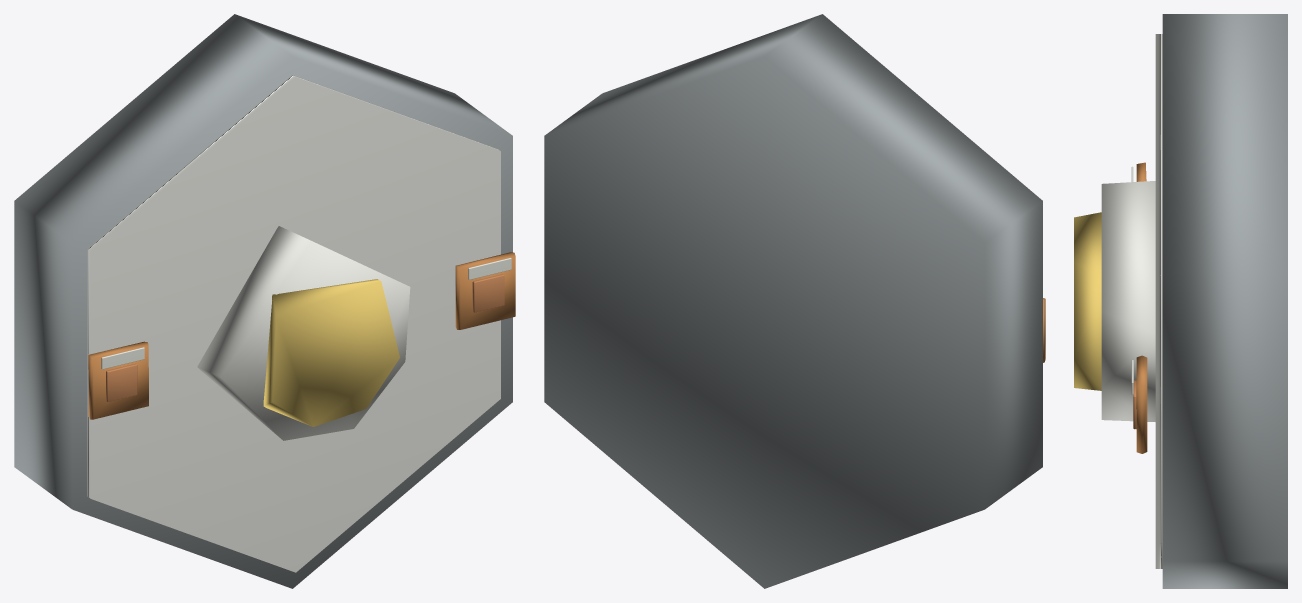
Rendered from led_series-module.low.glb.
3 views of the same model, side by side, from view 1: azimuth 30°, elevation 25°; view 2: azimuth 150°, elevation 25°; view 3: azimuth 270°, elevation 25° (orthographic). The views are drawn at different scales.
Visible parts, largest first — view 1: node-5, node-4, node-10, node-9, node-3 · Original material.002, Tinned copper solder land.001, Tinned copper solder land; view 2: node-4; view 3: node-4, node-9, node-10, node-5, node-3 · Original material.002.
Boxes of the visible parts, box(x1,y1,x2,y2) form: node-5: box(87, 75, 500, 572); node-4: box(14, 14, 512, 588); node-10: box(263, 279, 399, 426); node-9: box(197, 226, 410, 440); node-3 · Original material.002: box(88, 252, 515, 419); Tinned copper solder land.001: box(472, 274, 504, 312); Tinned copper solder land: box(106, 363, 137, 402); node-4: box(544, 14, 1042, 588); node-4: box(1162, 14, 1287, 588); node-9: box(1101, 181, 1155, 421); node-10: box(1074, 212, 1101, 390); node-5: box(1155, 34, 1162, 568); node-3 · Original material.002: box(1136, 162, 1147, 453).
Bounding box in the file's own units: 0.7448 × 0.86 × 0.29.
